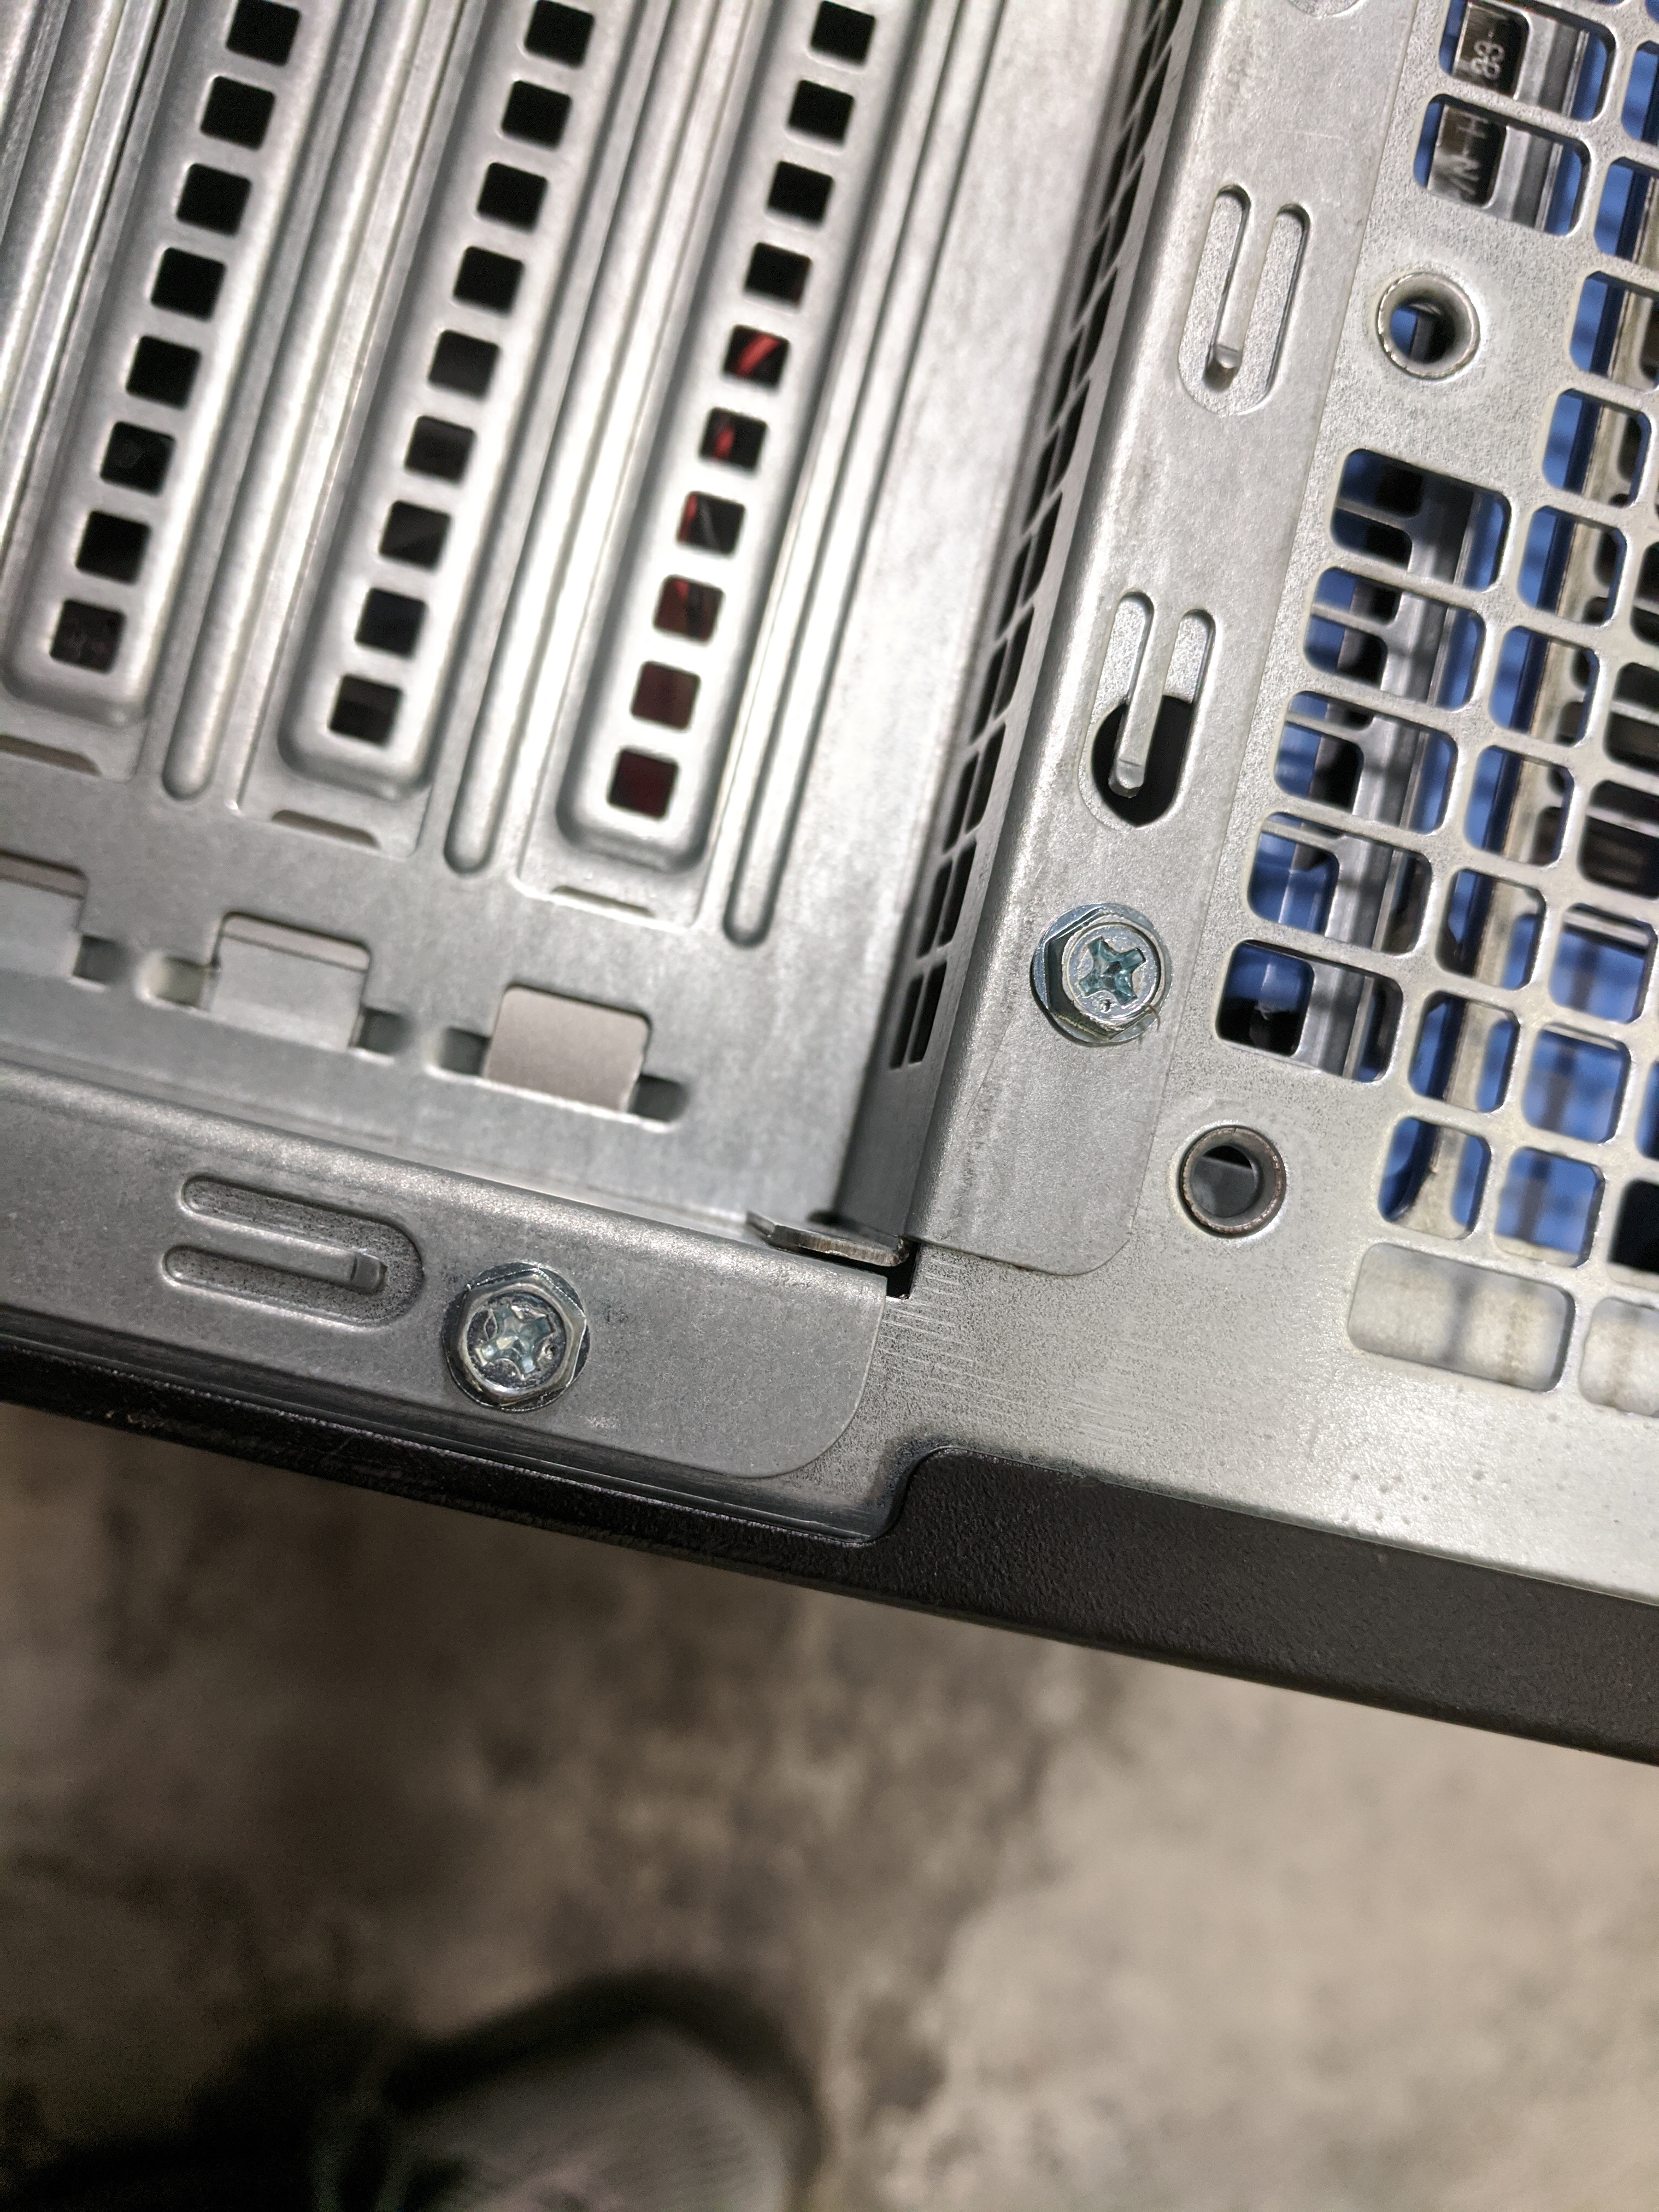cross_recessed_screw: (1035, 897, 1197, 1047), (434, 1256, 584, 1407)
